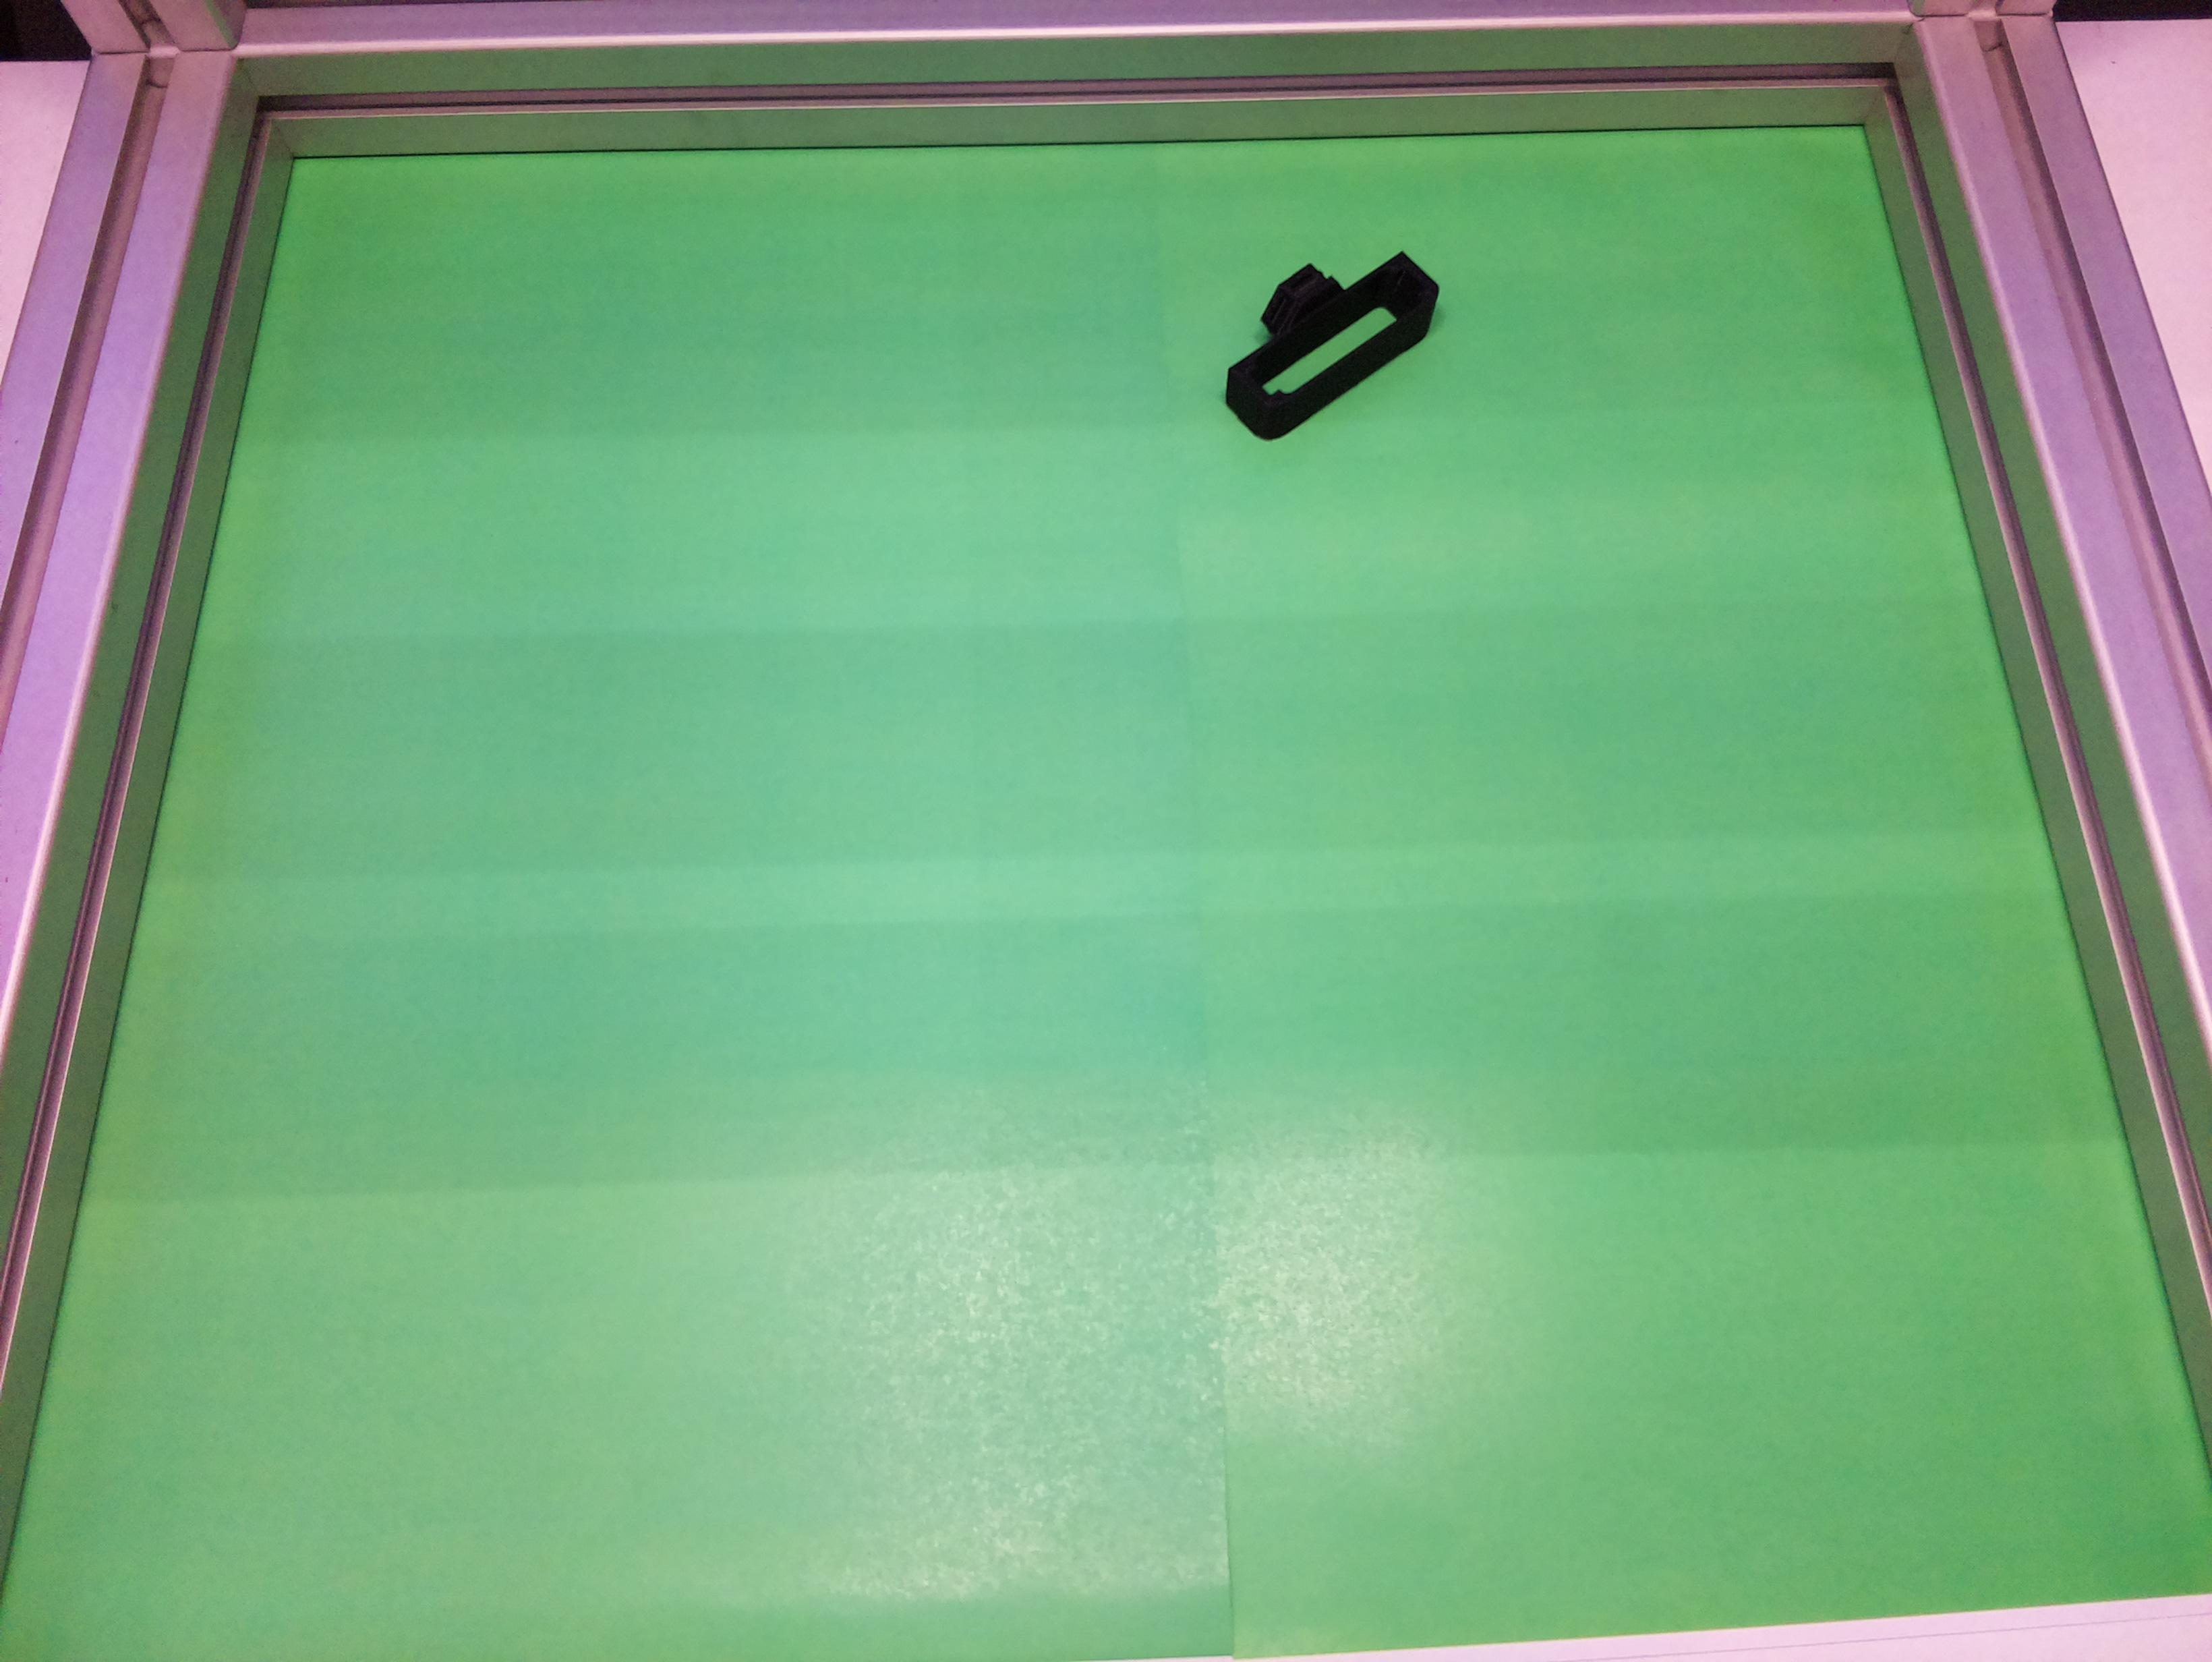cutter_holder: (1189, 211, 1458, 450)
